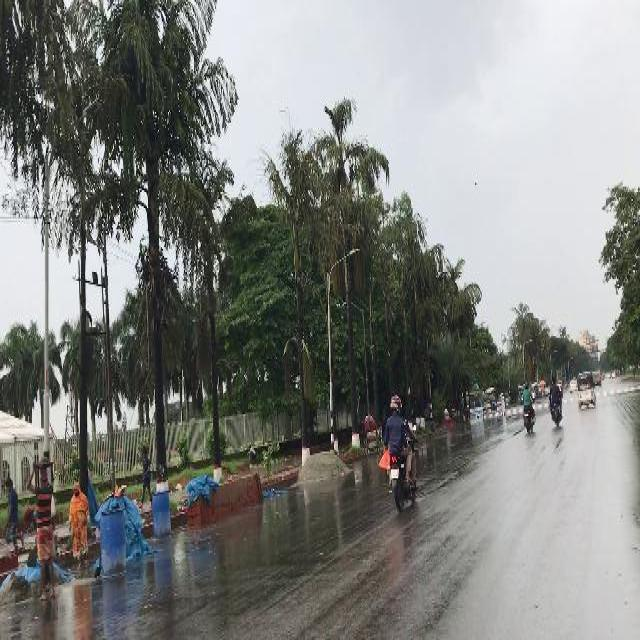car: (568, 379, 576, 393)
motorbike: (384, 392, 420, 515), (520, 381, 536, 433), (549, 376, 563, 428)
rickshaw: (362, 413, 382, 458)
three wheelers -CNG-: (576, 369, 594, 410)
